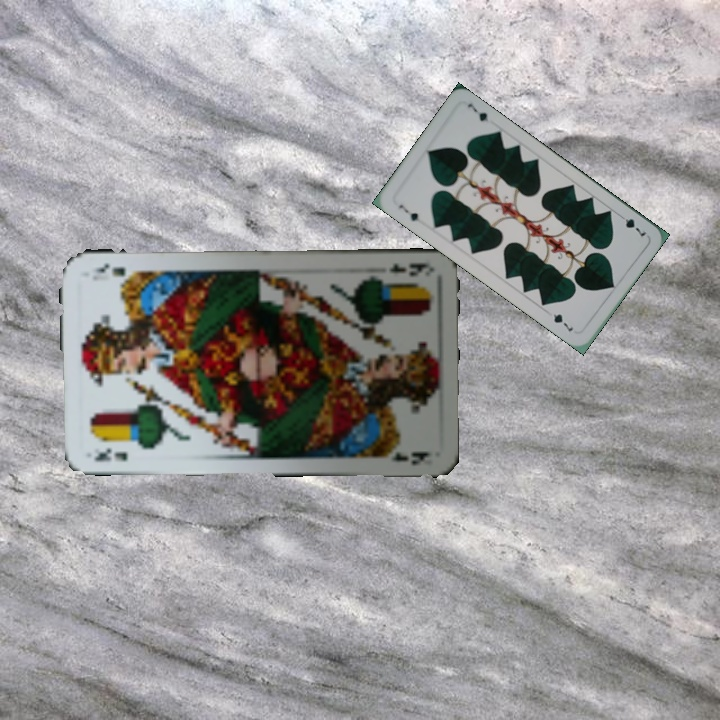EK: (385, 258, 433, 279), (91, 444, 131, 464)
G7: (614, 211, 649, 239), (394, 201, 422, 224)
